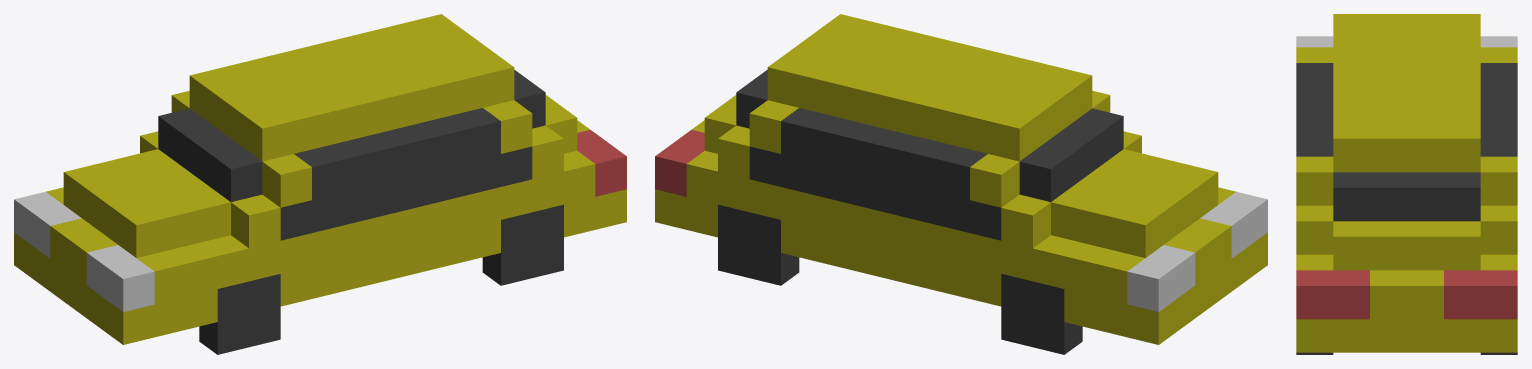
Rendered from car-v4-yellow.gltf.
The picture shows the model from 3 angles, left to right: view 1: azimuth 30°, elevation 25°; view 2: azimuth 150°, elevation 25°; view 3: azimuth 270°, elevation 25°; orthographic projection.
Visible parts, largest first — view 1: model, wheels; view 2: model, wheels; view 3: model, wheels.
Boxes of the visible parts, bbox=[...] form: model: bbox=[14, 14, 626, 344]; wheels: bbox=[199, 204, 563, 354]; model: bbox=[655, 14, 1267, 344]; wheels: bbox=[718, 204, 1082, 354]; model: bbox=[1296, 14, 1517, 352]; wheels: bbox=[1296, 352, 1517, 354].
Size of the model in its own units: 1.6 by 0.6 by 0.6.
Materials: 2 (2 with a texture image).
